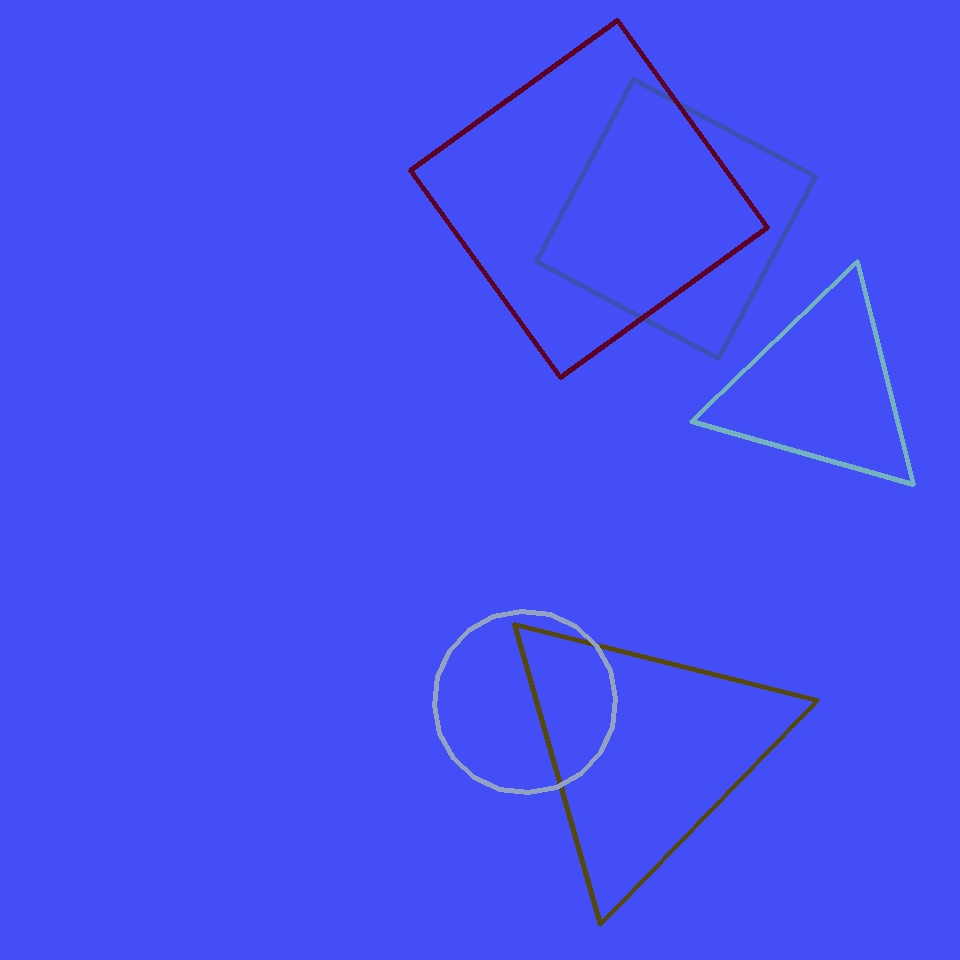circle: (492, 600, 796, 900), (710, 278, 932, 500)
square: (410, 21, 768, 378), (536, 79, 816, 358)
triangle: (434, 612, 616, 792)
